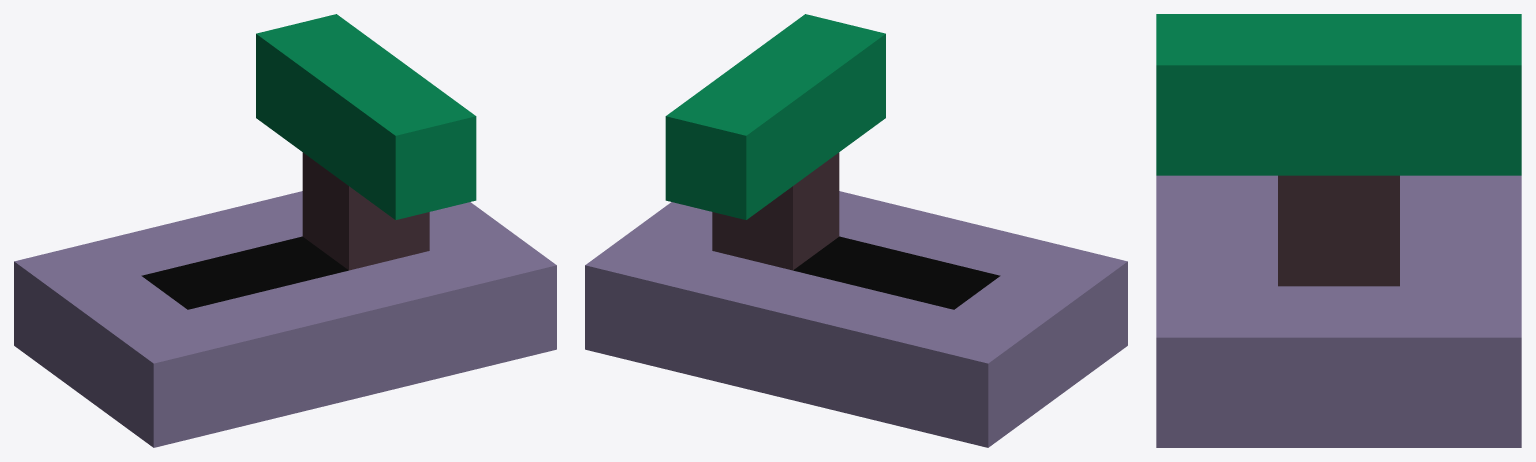
File: lever_a_a_green_on.obj
3 renders of one model, left to right at view 1: azimuth 30°, elevation 25°; view 2: azimuth 150°, elevation 25°; view 3: azimuth 270°, elevation 25°, orthographic. The views are drawn at different scales.
Size of the model in its own units: 0.5 by 0.3 by 0.3.
1 material, 1 textured.
